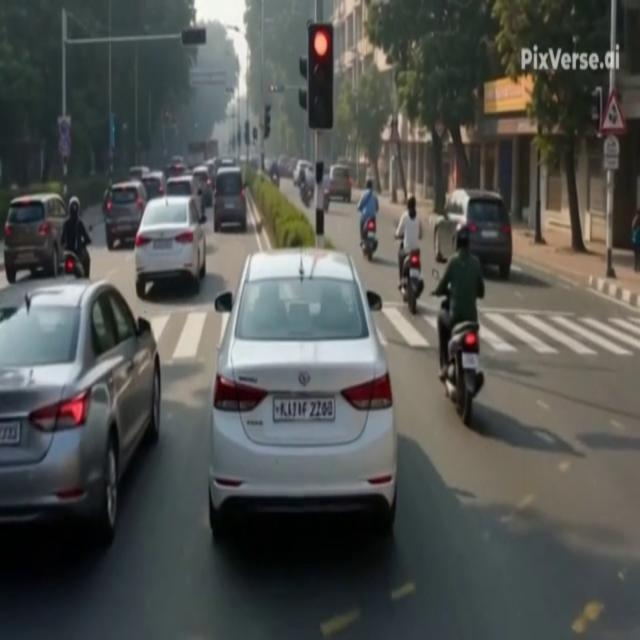car: (209, 249, 397, 540), (0, 279, 160, 544), (134, 196, 206, 298), (433, 189, 512, 279), (4, 193, 66, 283), (104, 181, 147, 250), (213, 167, 247, 231), (166, 174, 203, 215), (193, 165, 213, 208), (329, 165, 352, 202), (141, 171, 165, 199), (293, 160, 312, 186), (214, 157, 237, 177), (165, 162, 187, 178), (129, 166, 149, 180), (171, 156, 183, 164)
scooty: (443, 323, 484, 426), (401, 250, 424, 315), (360, 219, 378, 261), (63, 251, 88, 279), (300, 184, 313, 207), (271, 174, 279, 188)
traffic signal: (307, 24, 333, 129), (591, 87, 603, 130), (299, 57, 308, 110), (181, 28, 206, 47), (109, 114, 116, 151), (264, 105, 271, 139), (245, 120, 250, 146), (269, 85, 284, 93), (237, 128, 241, 148), (252, 127, 257, 143)
truck: (187, 138, 218, 167), (187, 141, 207, 167), (206, 138, 218, 160)
